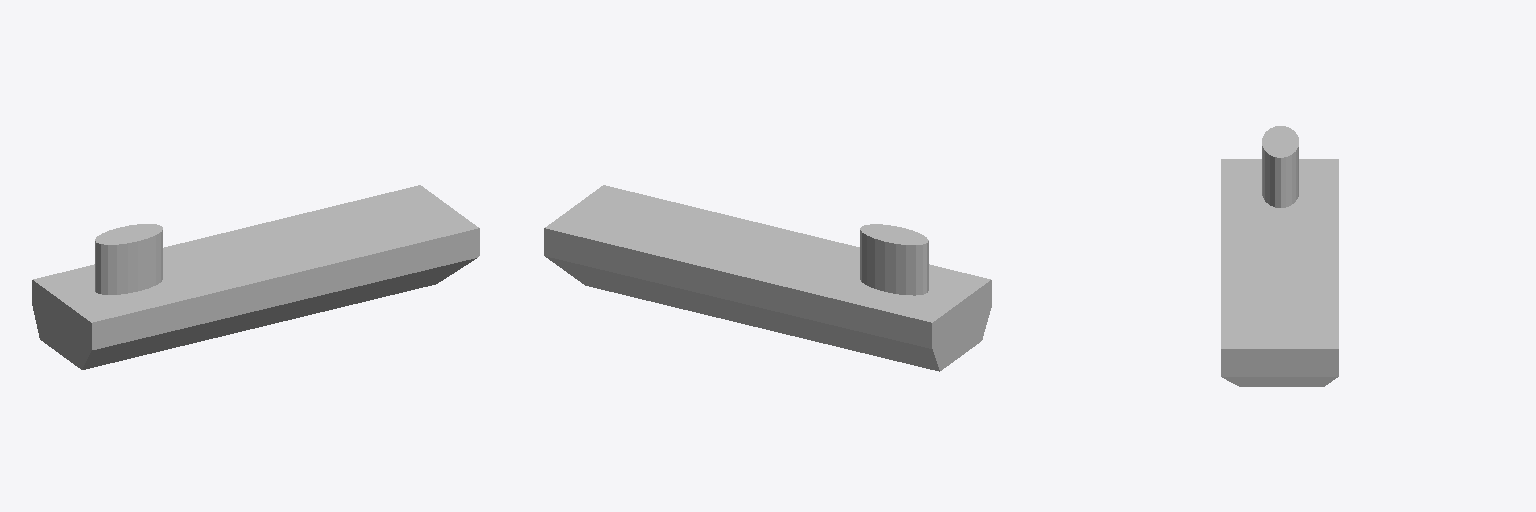
The model's file is tanker.obj.
3 views of the same model, side by side, from view 1: azimuth 30°, elevation 25°; view 2: azimuth 150°, elevation 25°; view 3: azimuth 270°, elevation 25° (orthographic).
Visible parts, largest first — view 1: default; view 2: default; view 3: default.
Boxes of the visible parts, x1,y1,x2,y2 form: default: [32, 185, 479, 369]; default: [544, 185, 991, 371]; default: [1221, 126, 1338, 386].
Bounding box in the file's own units: 12.87 × 3.32 × 3.4.